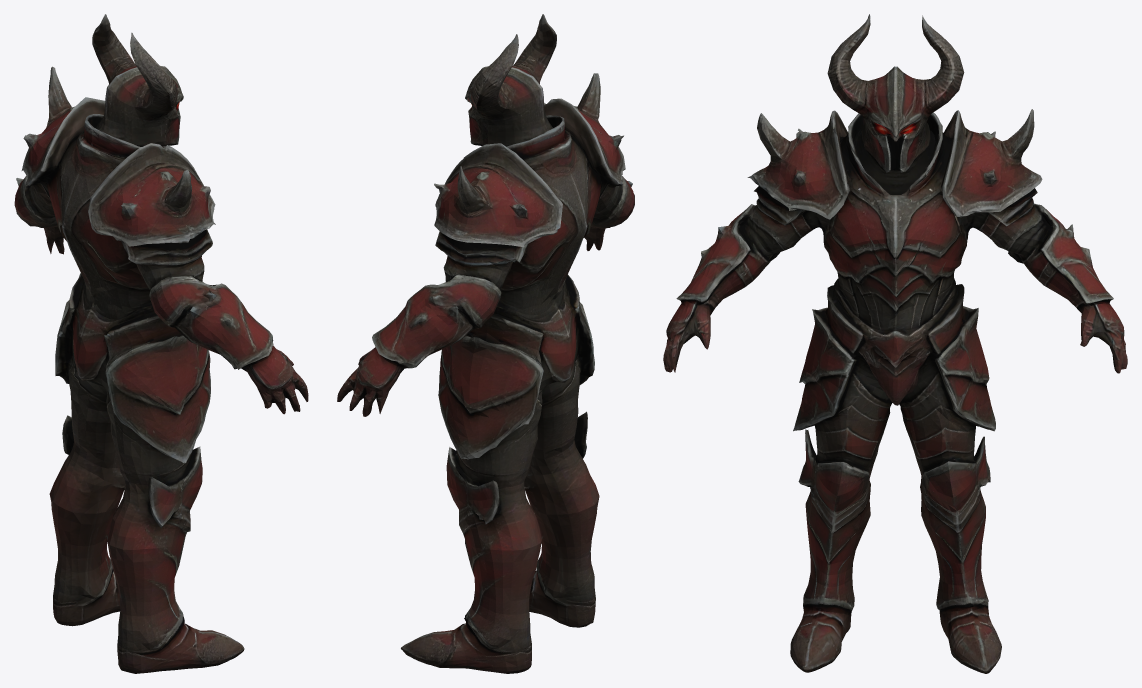
File: tripo_convert_f072e292-4045-40ef-aa94-0799b47859ff.obj
3 renders of one model, left to right at view 1: azimuth 30°, elevation 25°; view 2: azimuth 150°, elevation 25°; view 3: azimuth 270°, elevation 25°, orthographic.
Visible parts, largest first — view 1: tripo_node_f072e292-4045-40ef-aa94-0799b47859ff; view 2: tripo_node_f072e292-4045-40ef-aa94-0799b47859ff; view 3: tripo_node_f072e292-4045-40ef-aa94-0799b47859ff.
Boxes of the visible parts, x1,y1,x2,y2 form: tripo_node_f072e292-4045-40ef-aa94-0799b47859ff: [14, 14, 308, 673]; tripo_node_f072e292-4045-40ef-aa94-0799b47859ff: [337, 14, 634, 673]; tripo_node_f072e292-4045-40ef-aa94-0799b47859ff: [663, 14, 1127, 673].
Size of the model in its own units: 0.2387 by 0.98 by 0.6624.
Materials: 1 (1 with a texture image).
